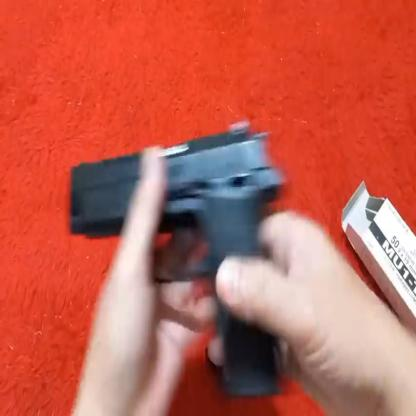handgun: (65, 116, 291, 416)
